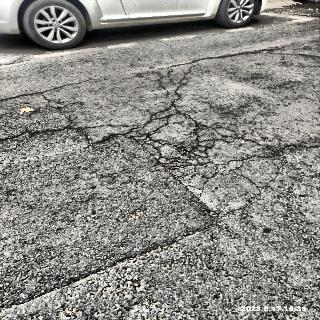alligator-crack: (114, 108, 282, 188), (155, 50, 280, 110), (0, 78, 93, 141)
